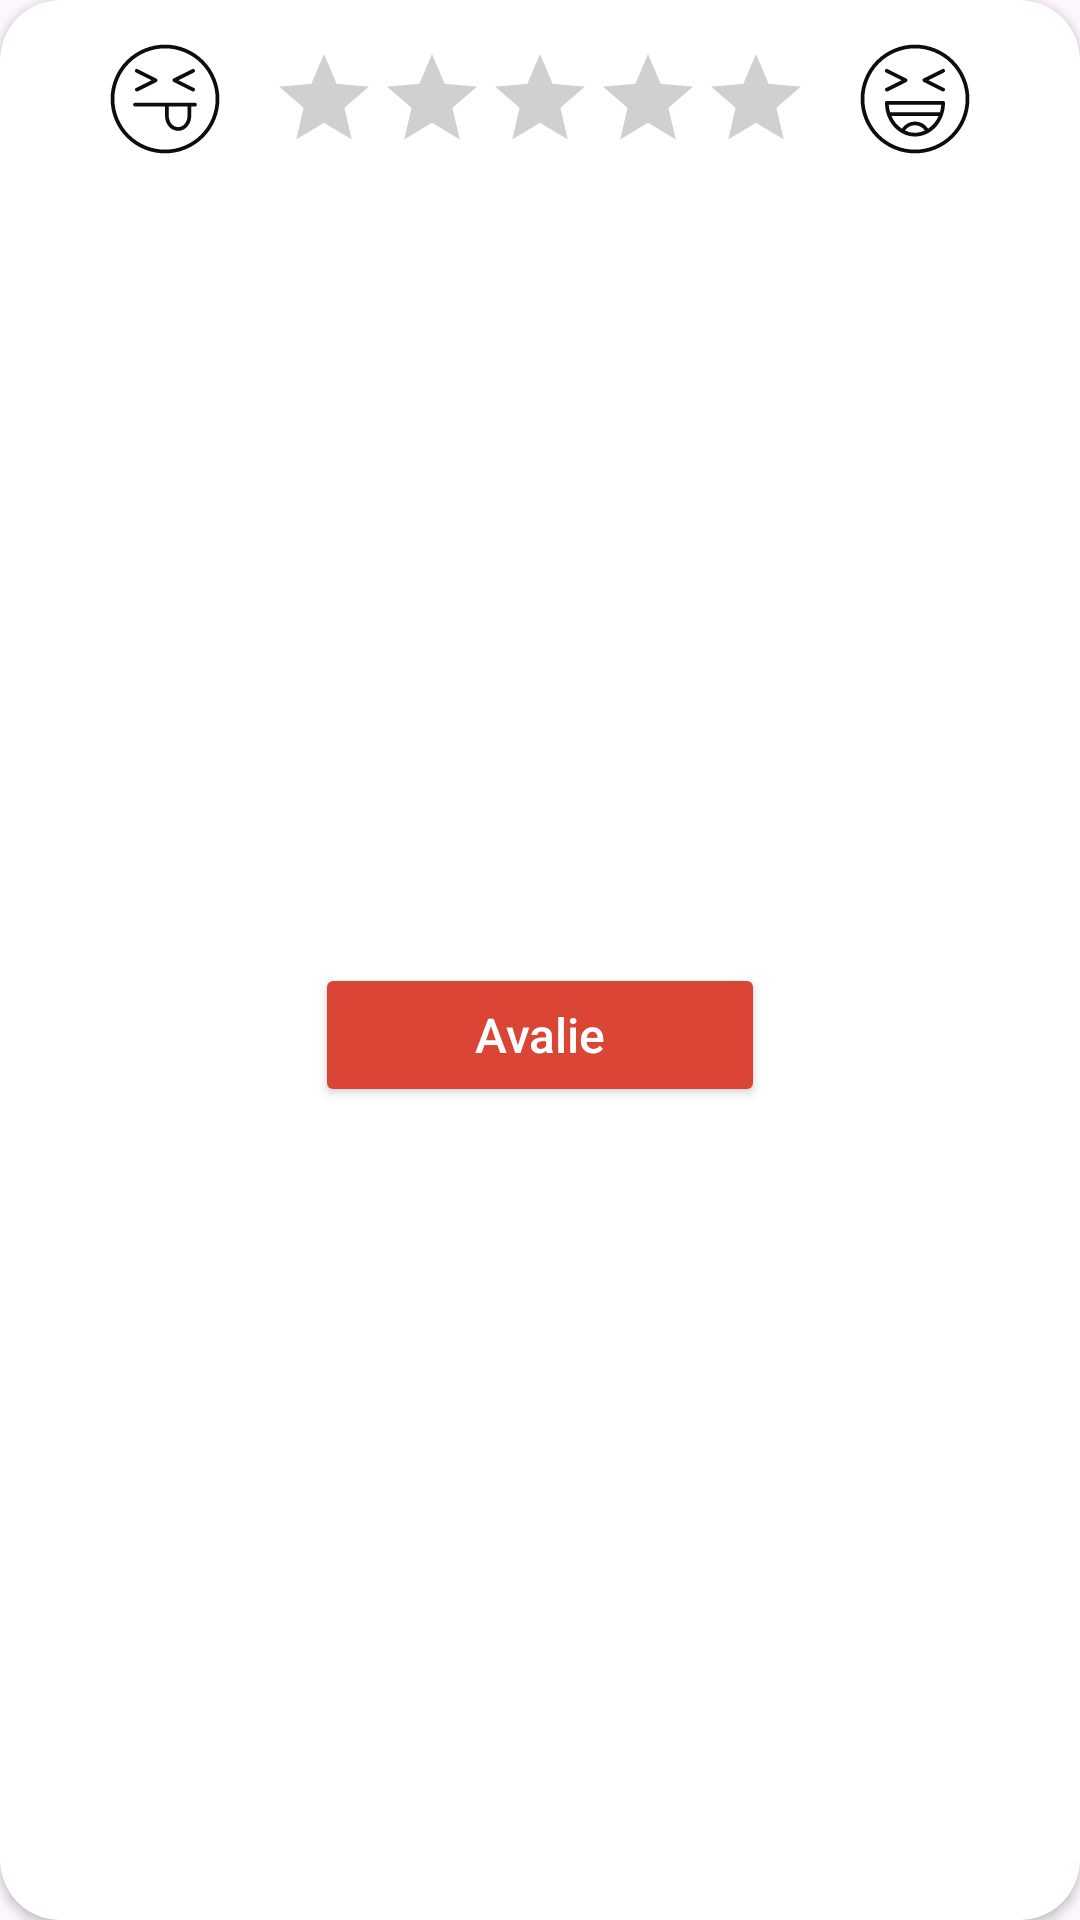

Icon bounding boxes for this 1080*1920 phone screenshot, format [x1, y1, x2, y2]:
happy: [860, 44, 970, 154]
